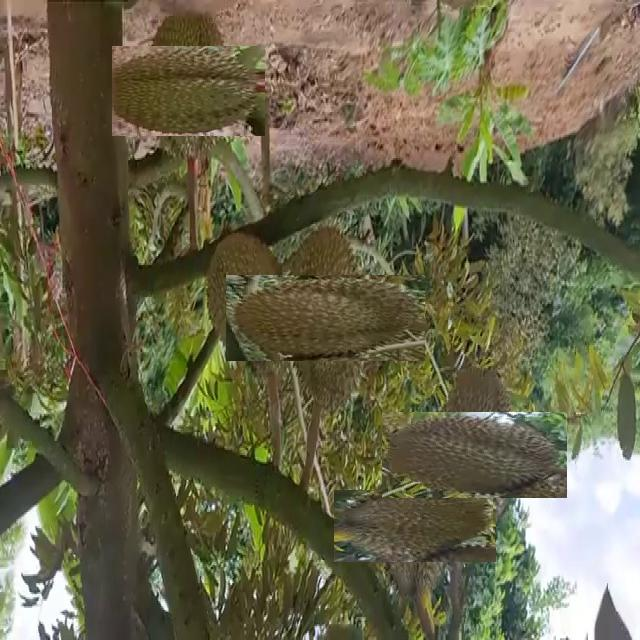durian: (254, 247, 397, 389), (407, 387, 542, 523), (128, 30, 250, 152), (199, 239, 292, 389), (357, 467, 474, 585)
